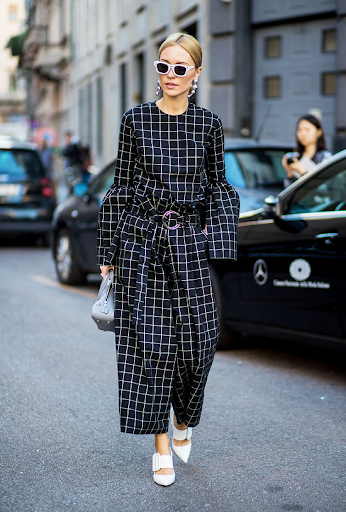squared: (91, 98, 242, 437)
